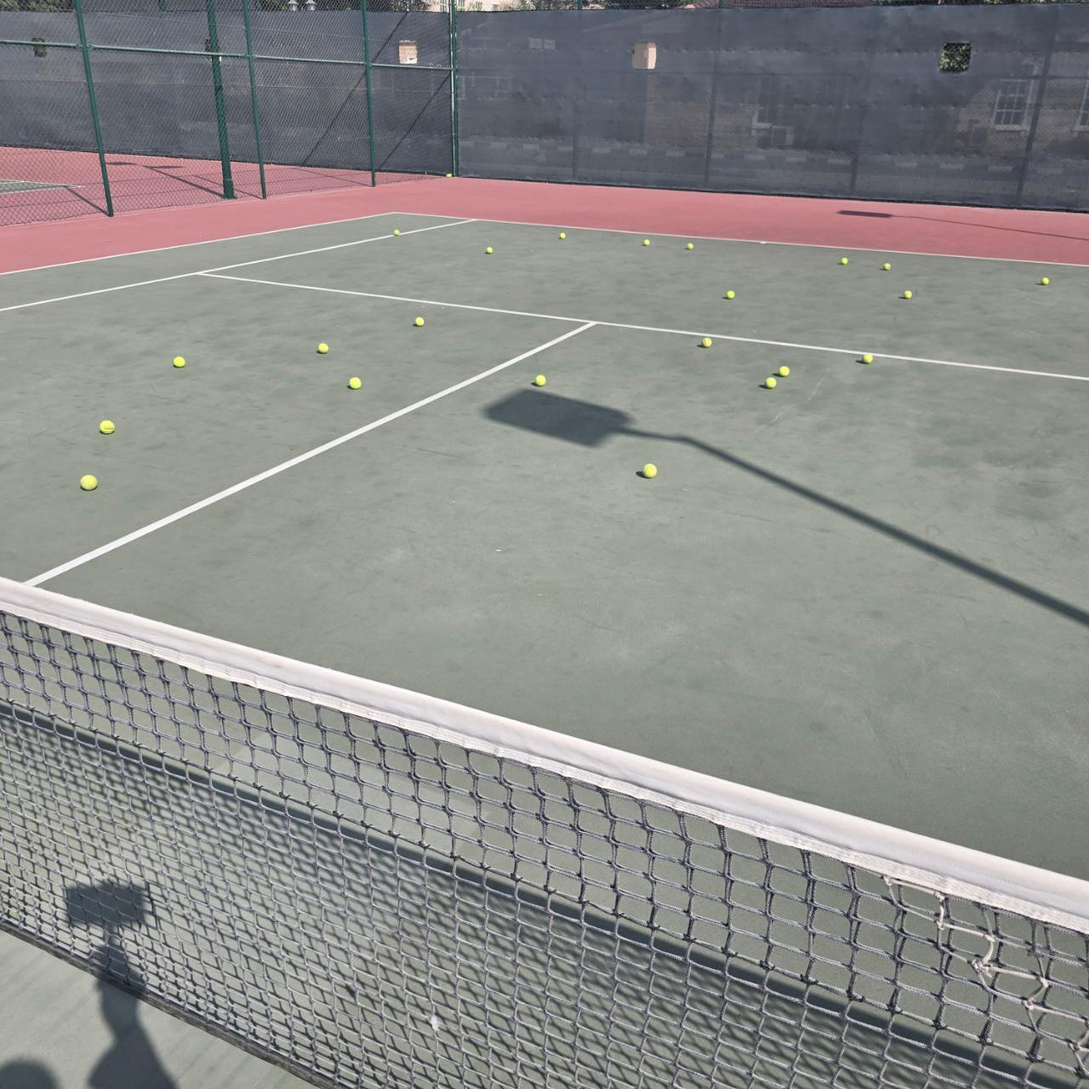tennis-ball: (78, 472, 97, 490), (640, 461, 658, 478), (97, 417, 115, 434), (345, 374, 362, 390), (171, 353, 185, 368), (316, 340, 329, 354), (532, 373, 546, 386), (412, 314, 424, 327), (764, 378, 777, 389), (778, 366, 790, 377), (701, 338, 713, 348), (861, 353, 873, 363), (903, 290, 912, 299), (726, 291, 735, 299), (686, 242, 694, 250), (1041, 277, 1049, 285), (485, 247, 494, 254), (559, 232, 566, 240), (841, 257, 848, 265), (884, 262, 891, 270), (643, 239, 650, 246), (393, 229, 399, 235), (446, 173, 453, 178)
